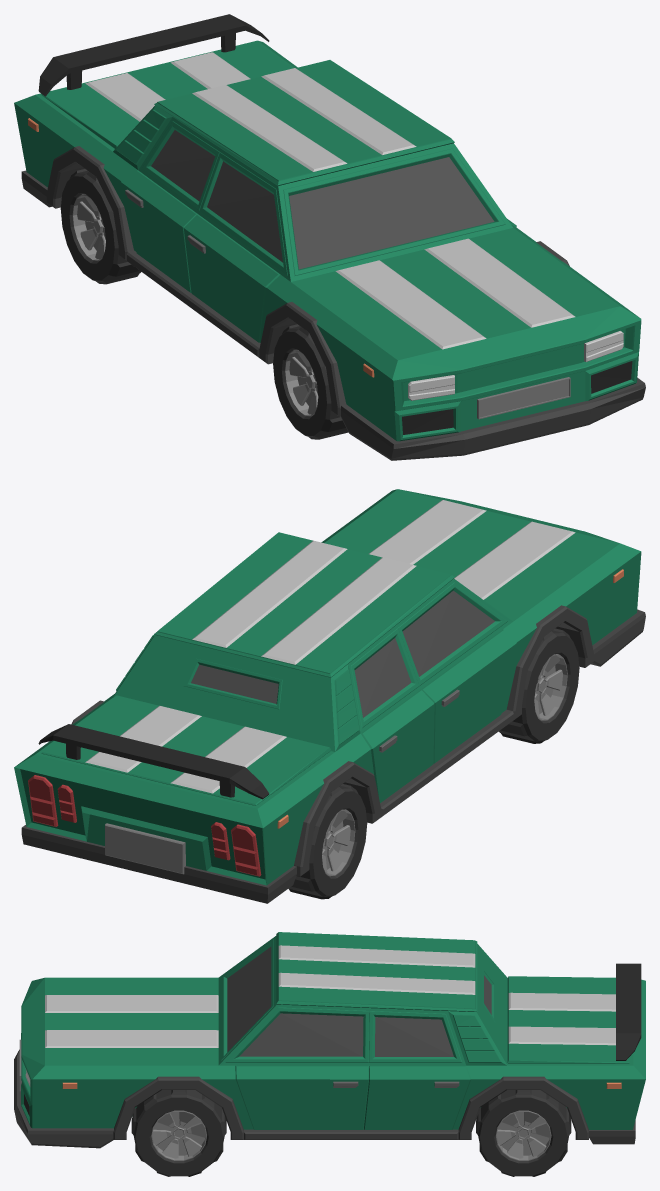
The model's file is racecar.glb.
The picture shows the model from 3 angles, top to bottom: view 1: azimuth 30°, elevation 25°; view 2: azimuth 150°, elevation 25°; view 3: azimuth 270°, elevation 25°; orthographic projection. The views are drawn at different scales.
Visible parts, largest first — view 1: body, wheel_rear_L, wheel_front_L; view 2: body, wheel_rear_L, wheel_front_L; view 3: body, wheel_front_R, wheel_rear_R.
Part boxes in pixels (x1,y1,x2,y2): body: [14, 14, 645, 460]; wheel_rear_L: [60, 169, 141, 284]; wheel_front_L: [273, 324, 348, 439]; body: [14, 489, 645, 903]; wheel_rear_L: [288, 784, 367, 899]; wheel_front_L: [499, 628, 579, 743]; body: [14, 932, 645, 1148]; wheel_front_R: [131, 1090, 226, 1176]; wheel_rear_R: [476, 1090, 571, 1176].
Bounding box in the file's own units: 1.9 × 1.43 × 4.98.
1 material, 1 textured.
